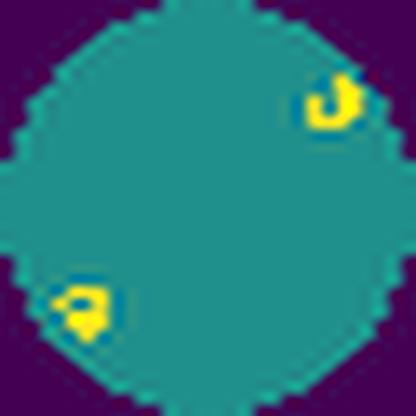Loc: (46, 277, 118, 355), (300, 73, 368, 131)
